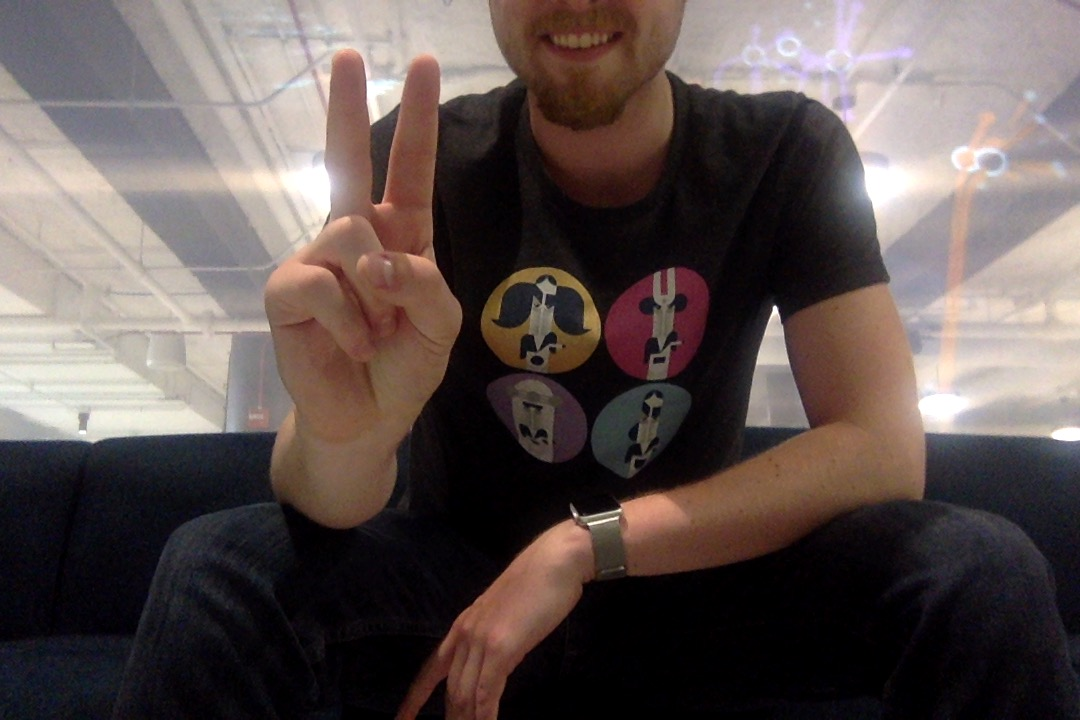v: (258, 43, 470, 449)
